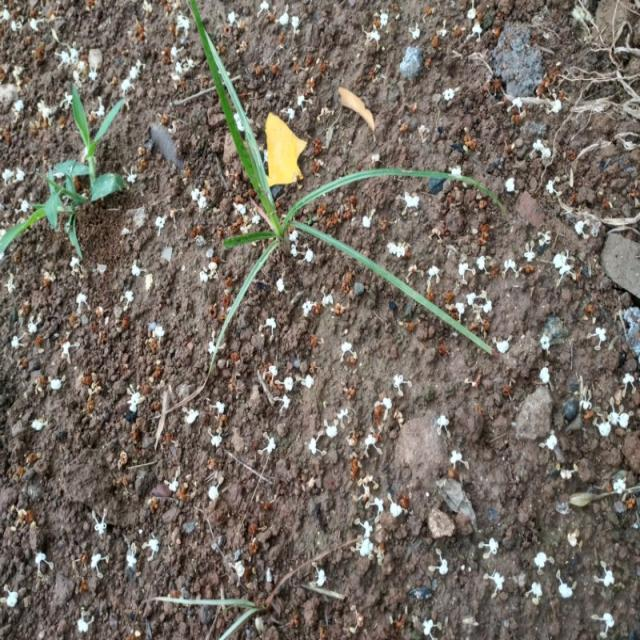sedge: (184, 38, 486, 376)
